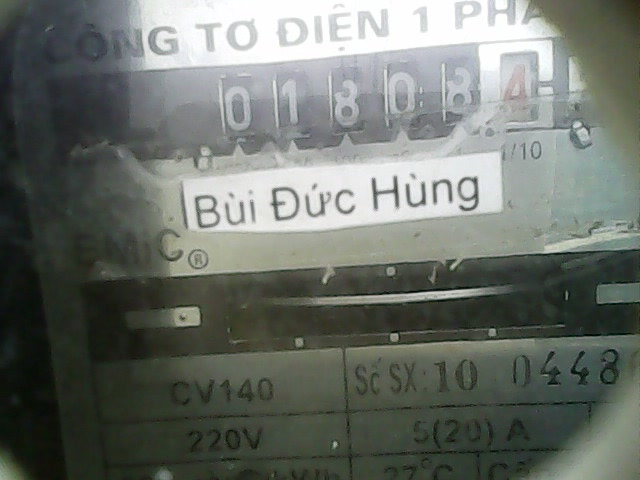phy_plate: (205, 34, 561, 148)
